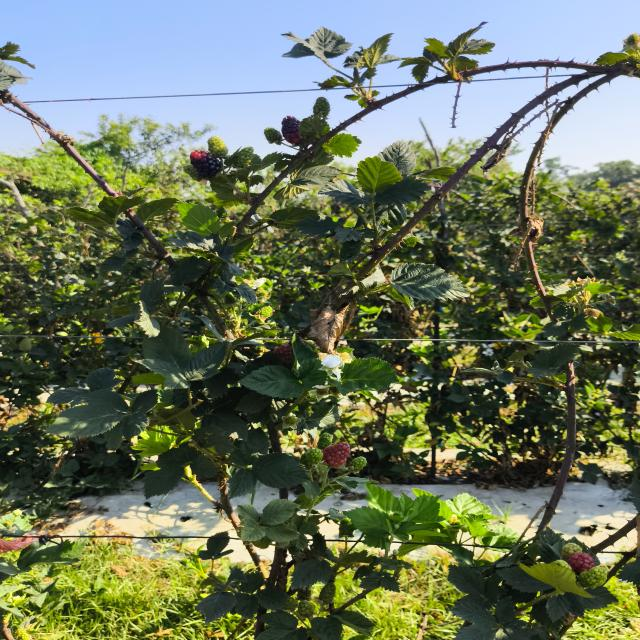marron: (190, 150, 222, 178), (282, 116, 300, 145)
naranja: (323, 443, 350, 467), (566, 552, 594, 575)
verde: (577, 565, 608, 588), (229, 147, 254, 168), (300, 449, 322, 470), (208, 137, 228, 157), (182, 164, 204, 181), (313, 97, 330, 118), (561, 543, 582, 560), (264, 127, 283, 145), (317, 432, 333, 449), (349, 456, 367, 471)
